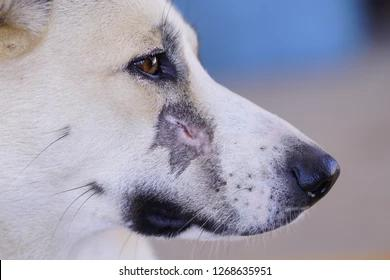cut: (153, 87, 223, 170)
